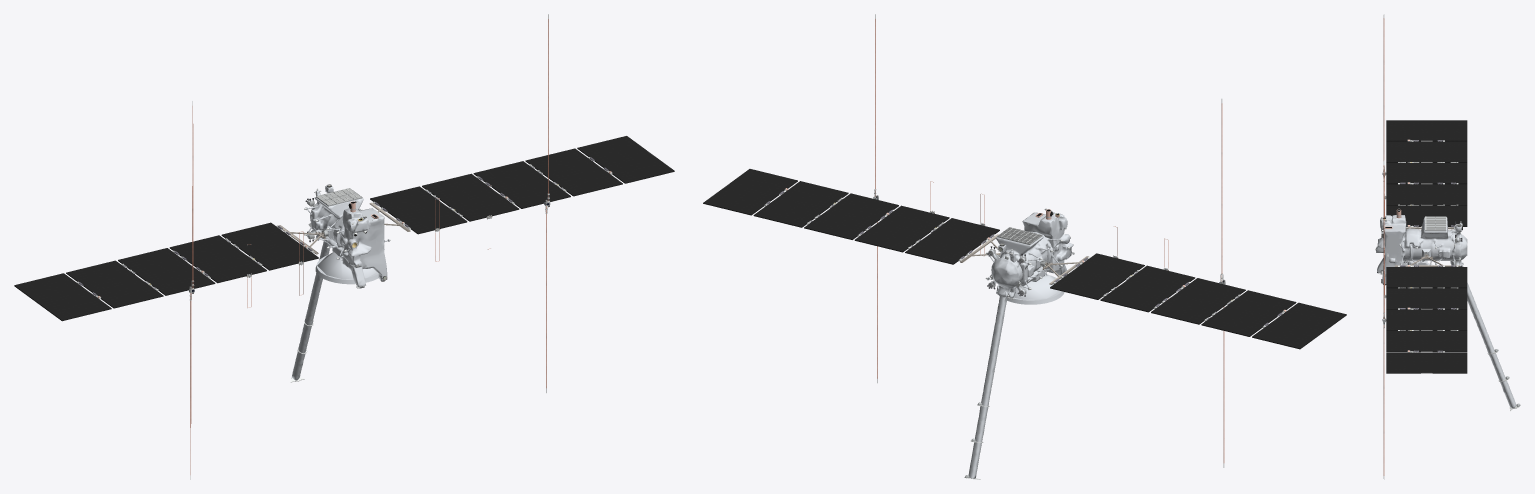
File: europa-clipper.glb
3 views of the same model, side by side, from view 1: azimuth 30°, elevation 25°; view 2: azimuth 150°, elevation 25°; view 3: azimuth 270°, elevation 25° (orthographic). The views are drawn at different scales.
Parts seen in each view (by area): view 1: solar_panel, blanket_hideable, reason.001, solar_cells_chassis, blanket_soft, bus_exposed; view 2: solar_panel, blanket_hideable, blanket_soft, reason.001, solar_cells_chassis, bus_exposed, blanket_hard; view 3: solar_panel, blanket_hideable, blanket_soft, reason.001, solar_cells_chassis, bus_exposed, blanket_hard.
Boxes of the visible parts, x1=… form: solar_panel: x1=14, y1=136, x2=674, y2=321; blanket_hideable: x1=292, y1=186, x2=387, y2=380; reason.001: x1=189, y1=14, x2=550, y2=479; solar_cells_chassis: x1=77, y1=157, x2=612, y2=299; blanket_soft: x1=307, y1=191, x2=363, y2=249; bus_exposed: x1=304, y1=188, x2=390, y2=288; solar_panel: x1=703, y1=169, x2=1346, y2=349; blanket_hideable: x1=968, y1=212, x2=1073, y2=478; blanket_soft: x1=990, y1=231, x2=1054, y2=293; reason.001: x1=873, y1=14, x2=1225, y2=467; solar_cells_chassis: x1=764, y1=188, x2=1285, y2=327; bus_exposed: x1=985, y1=227, x2=1070, y2=299; blanket_hard: x1=987, y1=229, x2=1068, y2=304; solar_panel: x1=1386, y1=120, x2=1467, y2=373; blanket_hideable: x1=1376, y1=215, x2=1516, y2=408; blanket_soft: x1=1402, y1=217, x2=1467, y2=265; reason.001: x1=1382, y1=14, x2=1386, y2=479; solar_cells_chassis: x1=1395, y1=139, x2=1459, y2=352; bus_exposed: x1=1377, y1=216, x2=1463, y2=274; blanket_hard: x1=1386, y1=226, x2=1455, y2=265.
Size of the model in its own units: 30.5 by 18.02 by 7.42.
18 materials, 14 textured.
